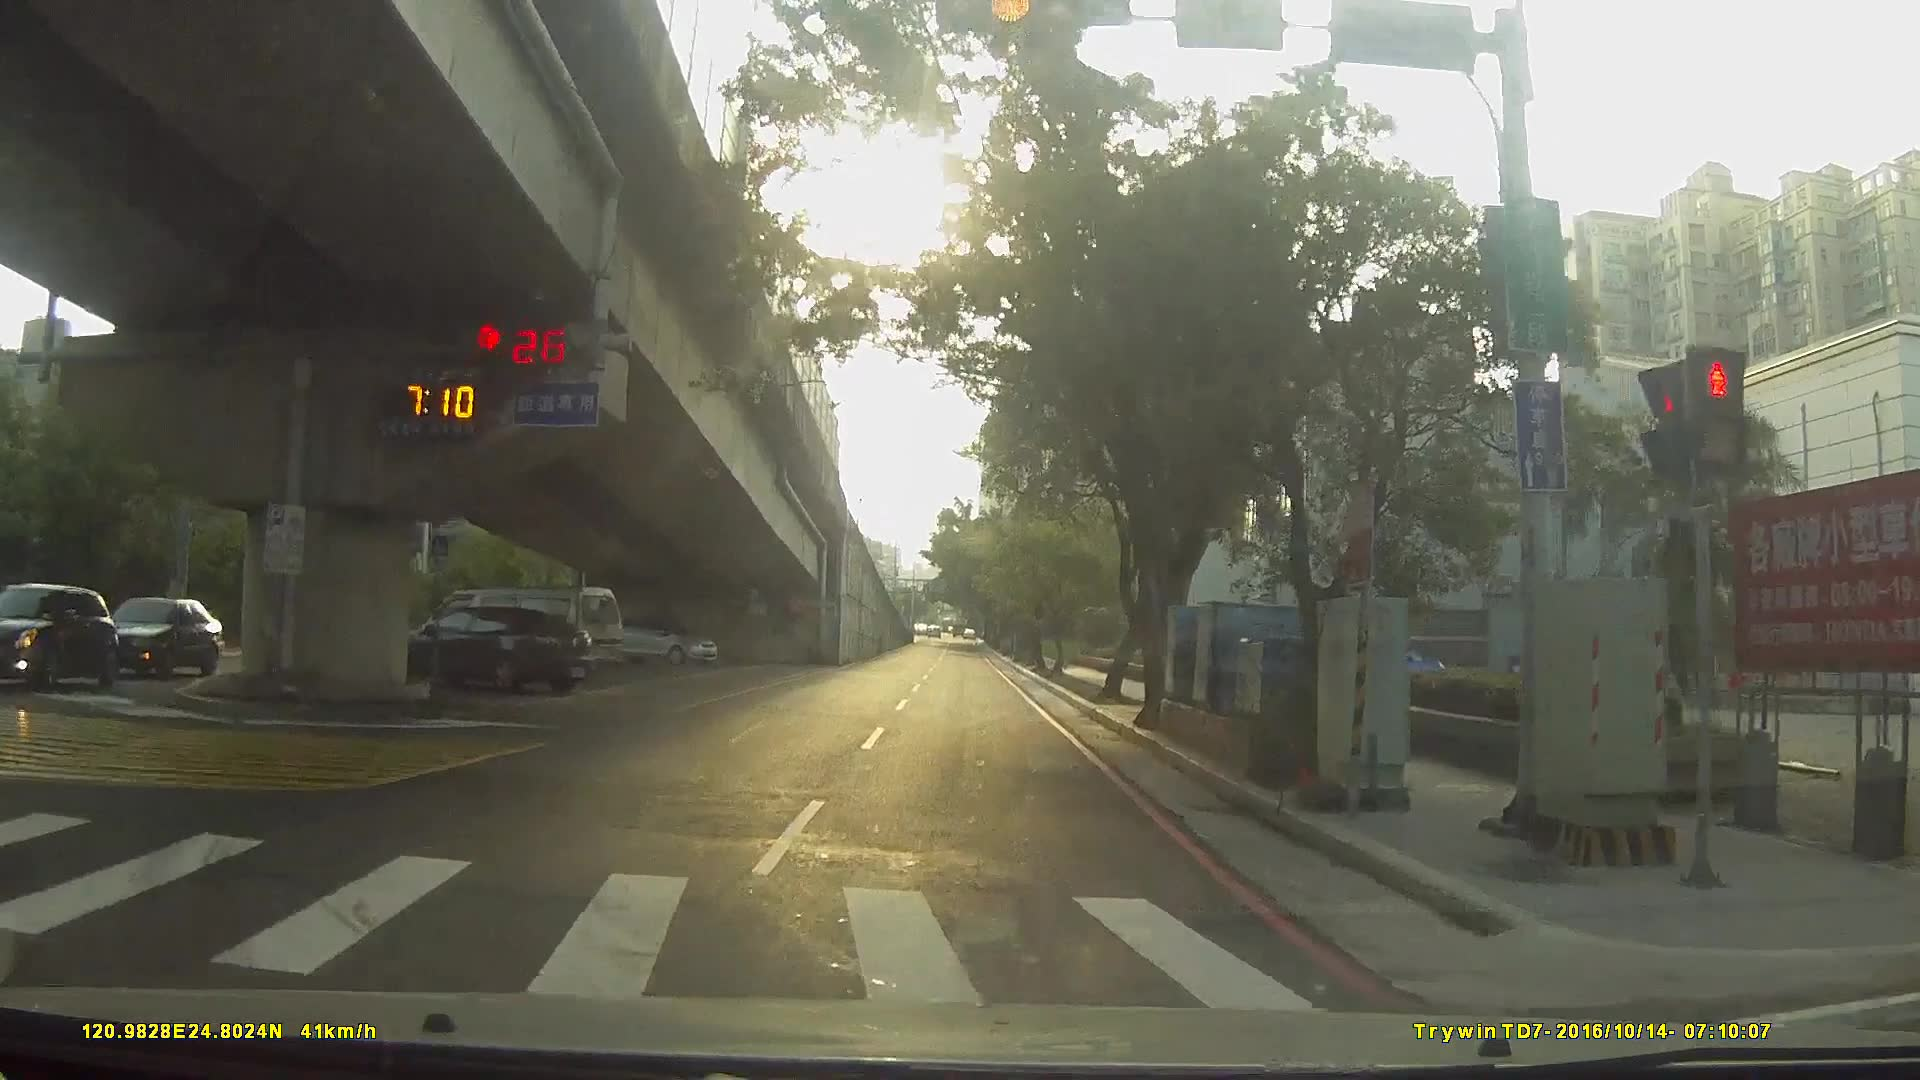vehicle: (413, 584, 618, 682), (375, 604, 585, 698), (1, 578, 127, 688), (88, 591, 232, 676), (593, 613, 717, 669)
